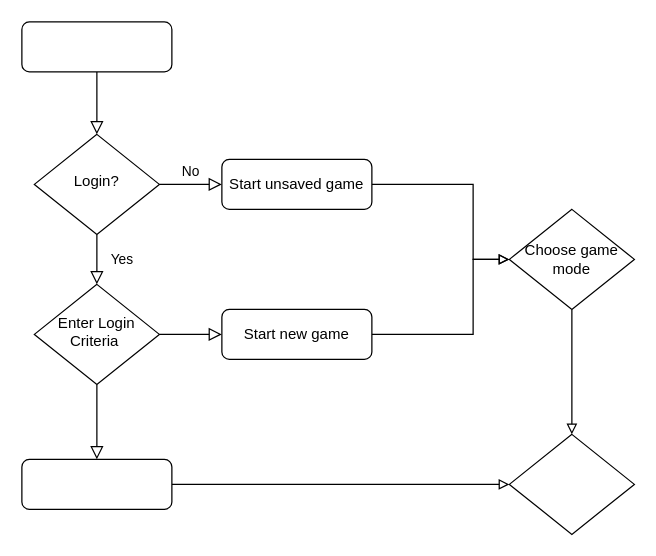
This 656x556 diagram has some shape labels left out. The shapes that lost their labels are listed below. From the top down, each one's centre as x and y in pixels, then its label:
the point at 96,46: Launch App
the point at 96,483: Start Saved game
the point at 571,483: Play game
